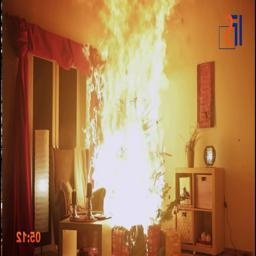fire: (73, 0, 191, 233)
